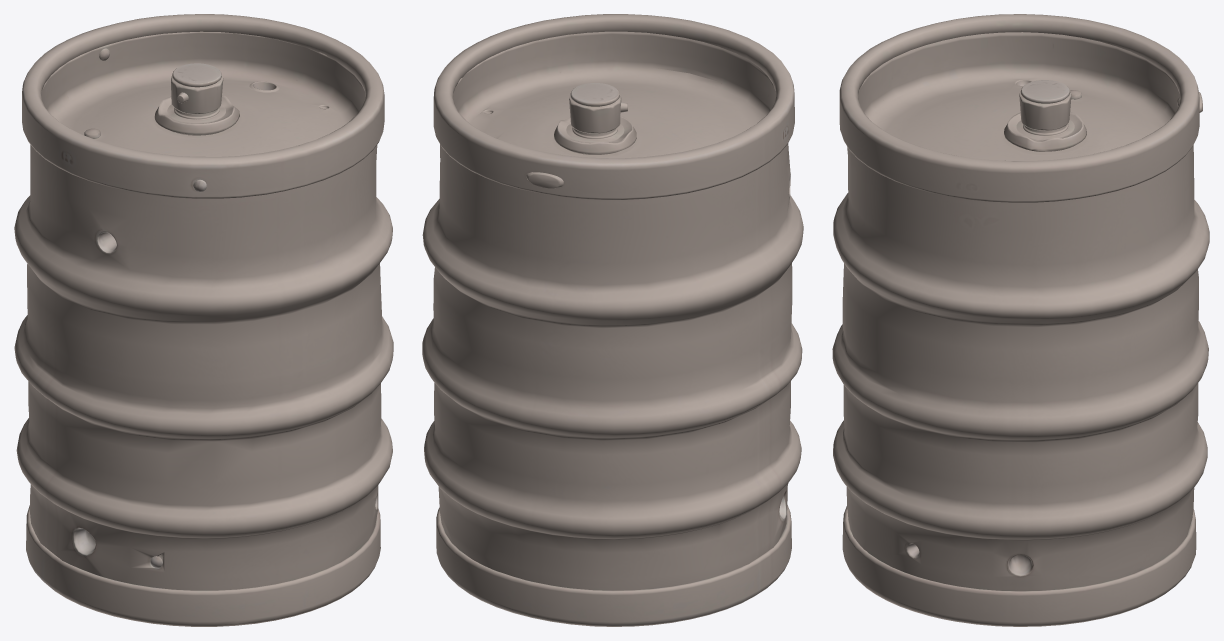
Rendered from bacva-pivo.glb.
3 renders of one model, left to right at view 1: azimuth 30°, elevation 25°; view 2: azimuth 150°, elevation 25°; view 3: azimuth 270°, elevation 25°, orthographic.
Parts seen in each view (by area): view 1: tripo_node_749b8a34-fe75-4172-9edf-0a9d579b2a98; view 2: tripo_node_749b8a34-fe75-4172-9edf-0a9d579b2a98; view 3: tripo_node_749b8a34-fe75-4172-9edf-0a9d579b2a98.
Part boxes in pixels (<box>): tripo_node_749b8a34-fe75-4172-9edf-0a9d579b2a98: <box>14,14,393,626</box>; tripo_node_749b8a34-fe75-4172-9edf-0a9d579b2a98: <box>422,14,803,626</box>; tripo_node_749b8a34-fe75-4172-9edf-0a9d579b2a98: <box>832,14,1209,626</box>.
Size of the model in its own units: 0.7339 by 0.9995 by 0.731.
Materials: 1 (1 with a texture image).
